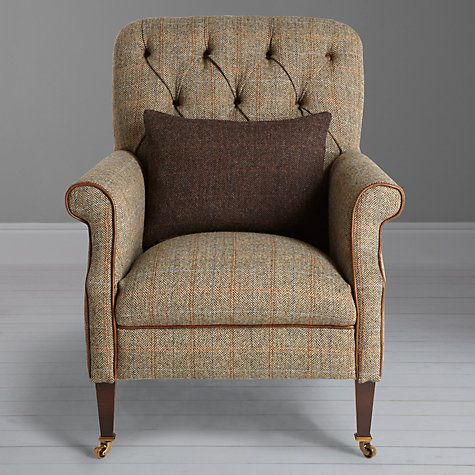chairs: (64, 13, 408, 465)
